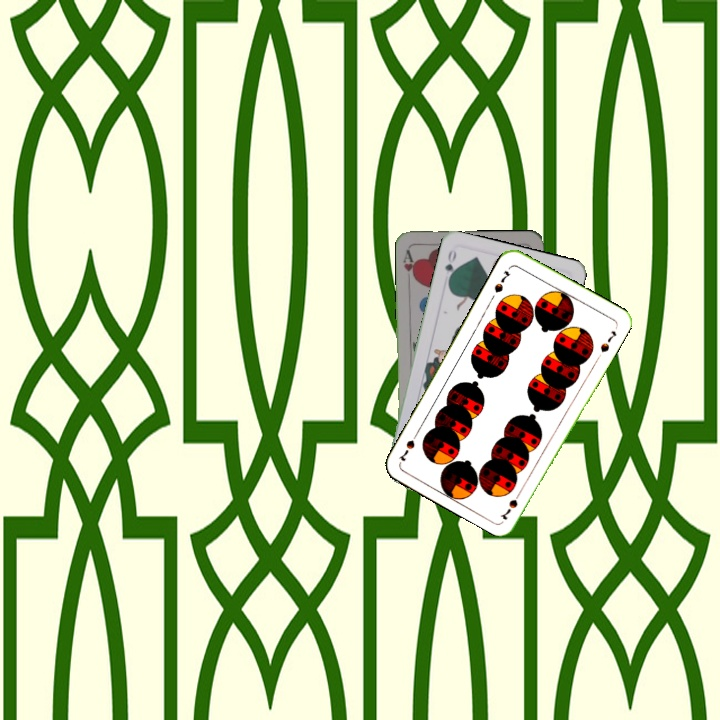GO: (441, 246, 459, 286)
HA: (399, 246, 418, 286)
S7: (497, 485, 525, 523), (490, 266, 513, 295)
